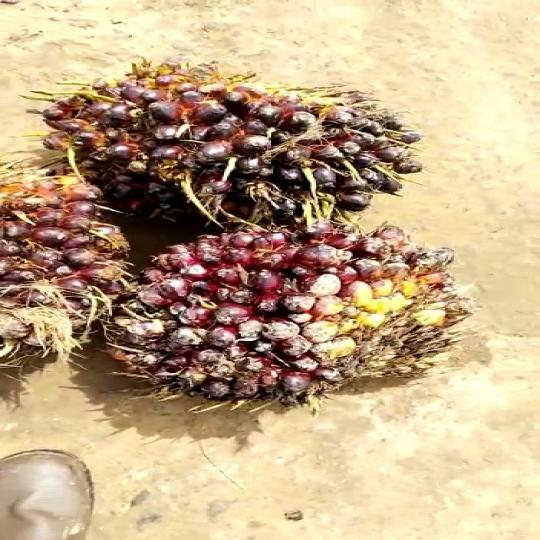kurang masak: (105, 214, 480, 424), (50, 53, 395, 234)
